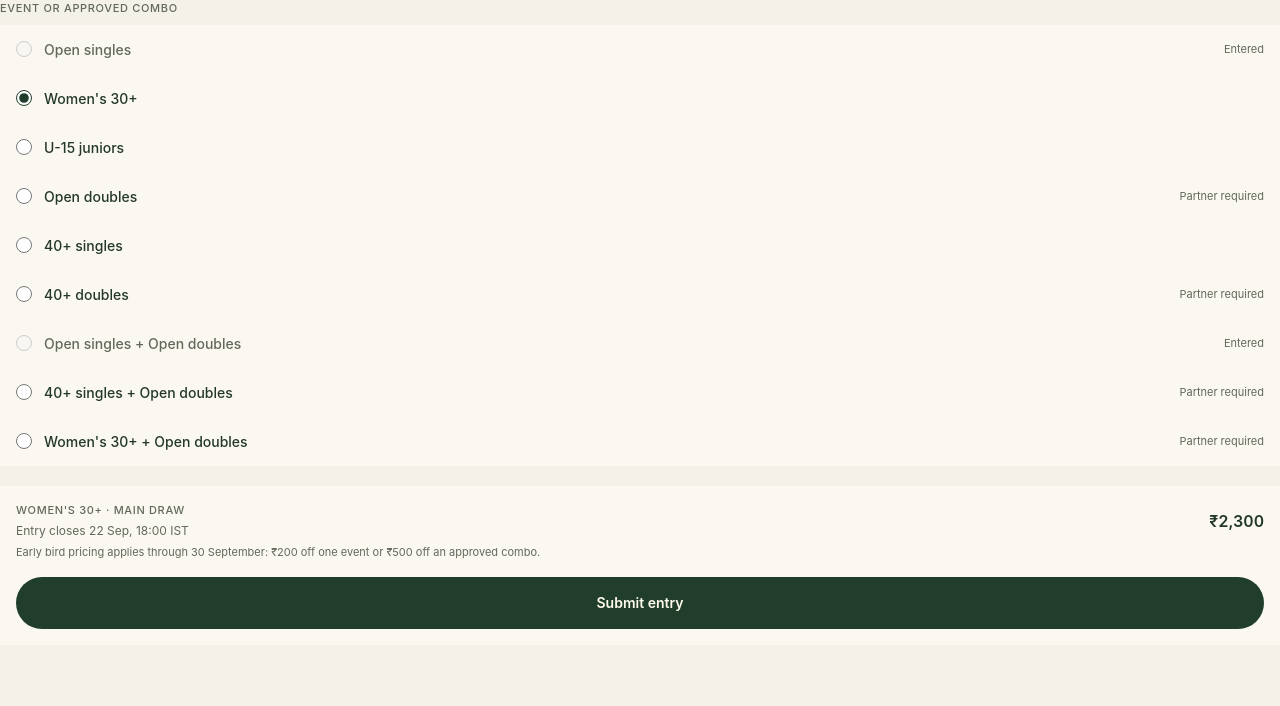
it: EntryForm › shows the price the server worked out for the option, such as a combo top-up
Click the radio button labelled "Open doubles".
click(24, 196)  # box [16,188,32,204]
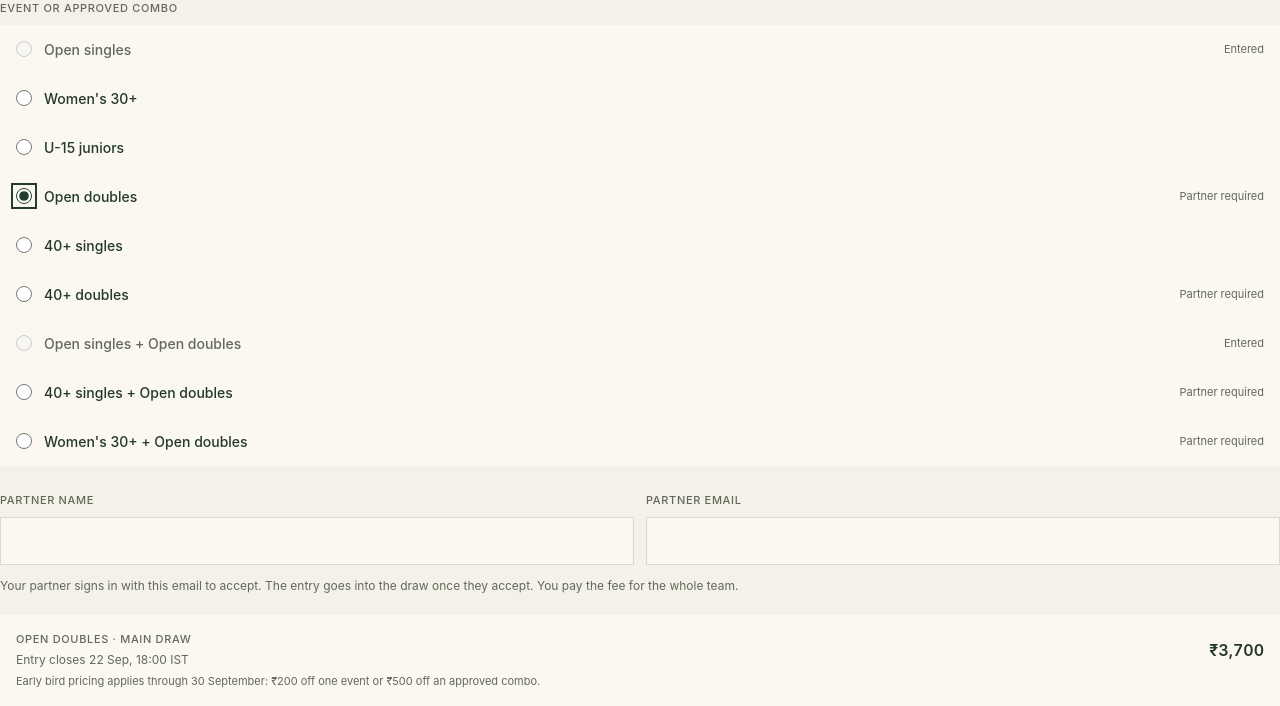
Result: the text "₹3,700" is shown at [1209,638,1264,662]
